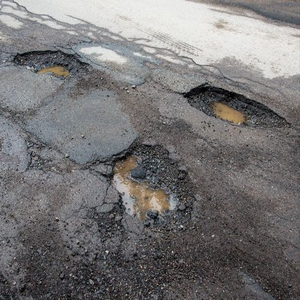pothole: (101, 136, 203, 236), (184, 80, 294, 135), (8, 46, 99, 85)
